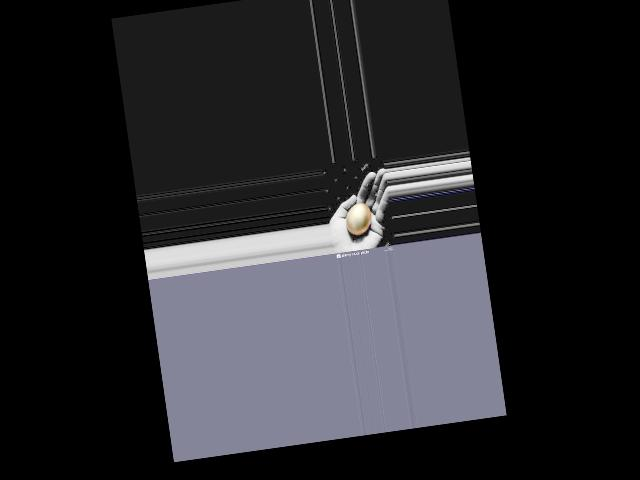egg: (344, 201, 373, 235)
